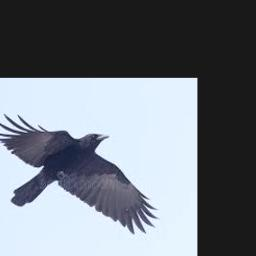Crow: (0, 113, 157, 233)
